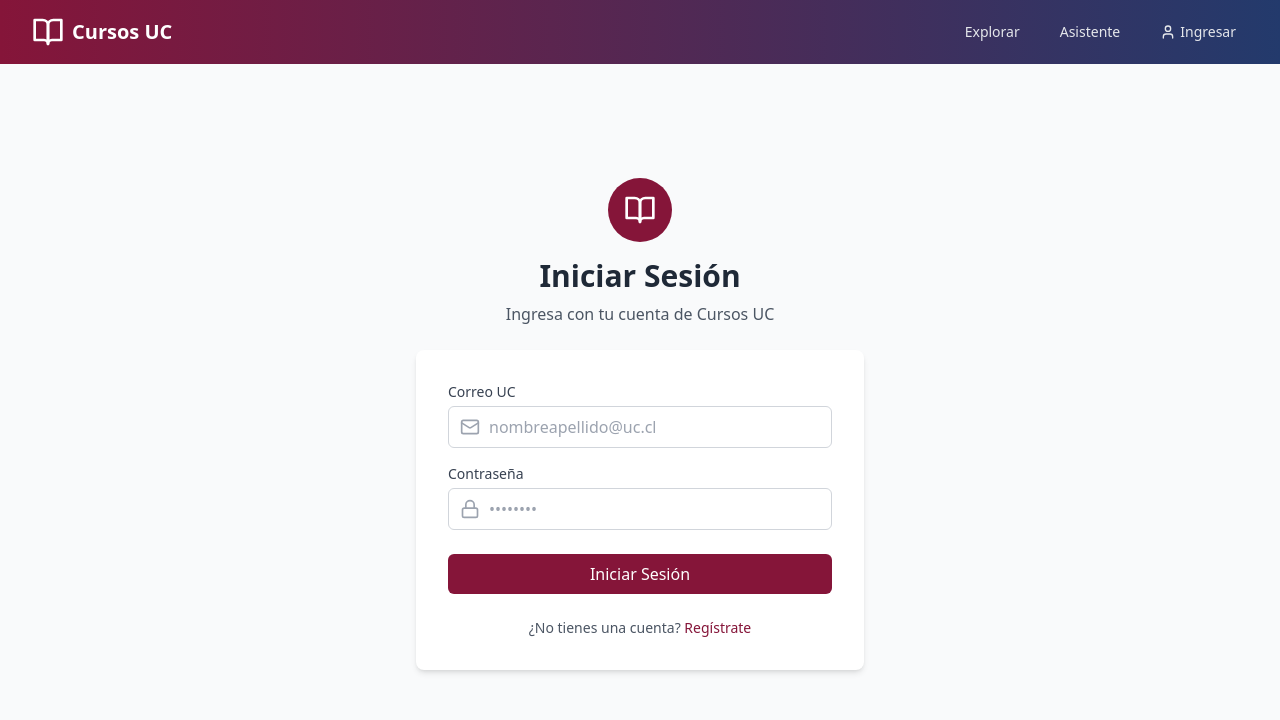
Test: Authentication › should toggle between login and register forms
Expected: the heading "Iniciar Sesión" is shown, [539,255,741,296]
Click register link
Click the button "Regístrate".
click(718, 628)  # box [684,618,751,638]
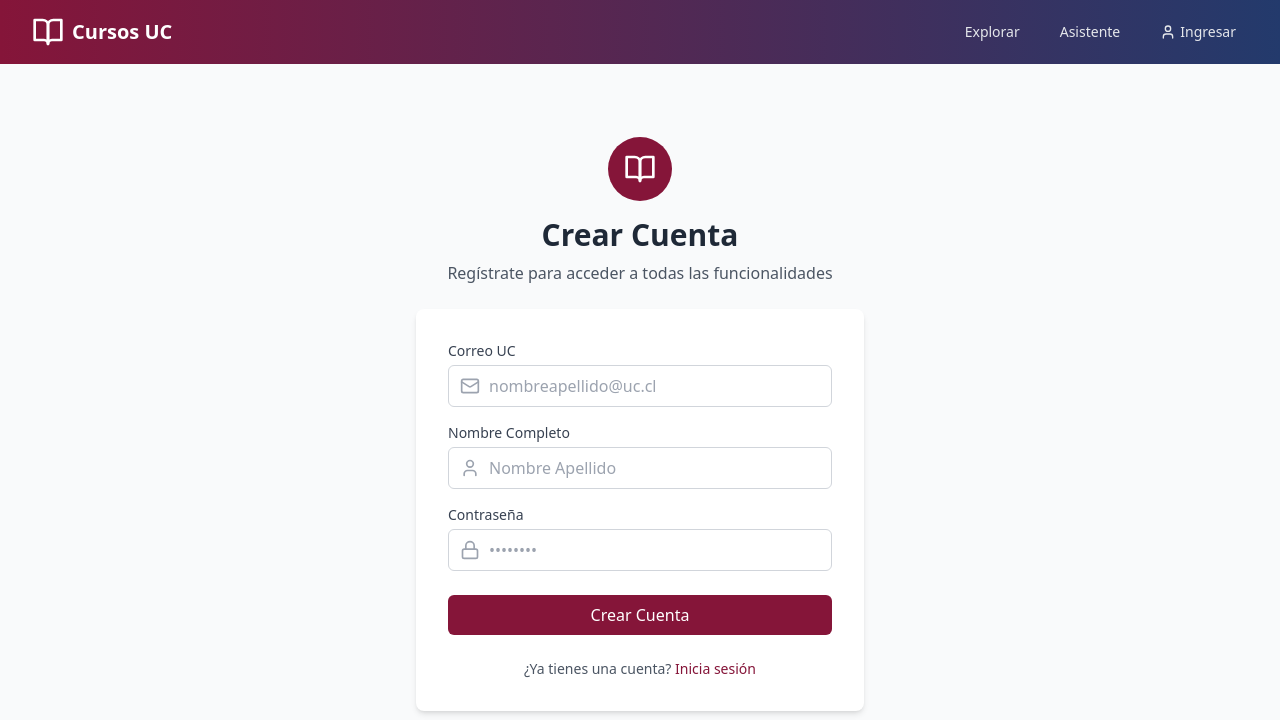
Expected: the heading "Crear Cuenta" is shown, [542,214,738,255]
Expected: the field labelled "Nombre Completo" is shown, [448,447,832,489]
Expected: the submit button reads "Crear Cuenta", [448,595,832,635]
Click login link
Click the button "Inicia sesión".
click(716, 669)  # box [675,659,756,679]
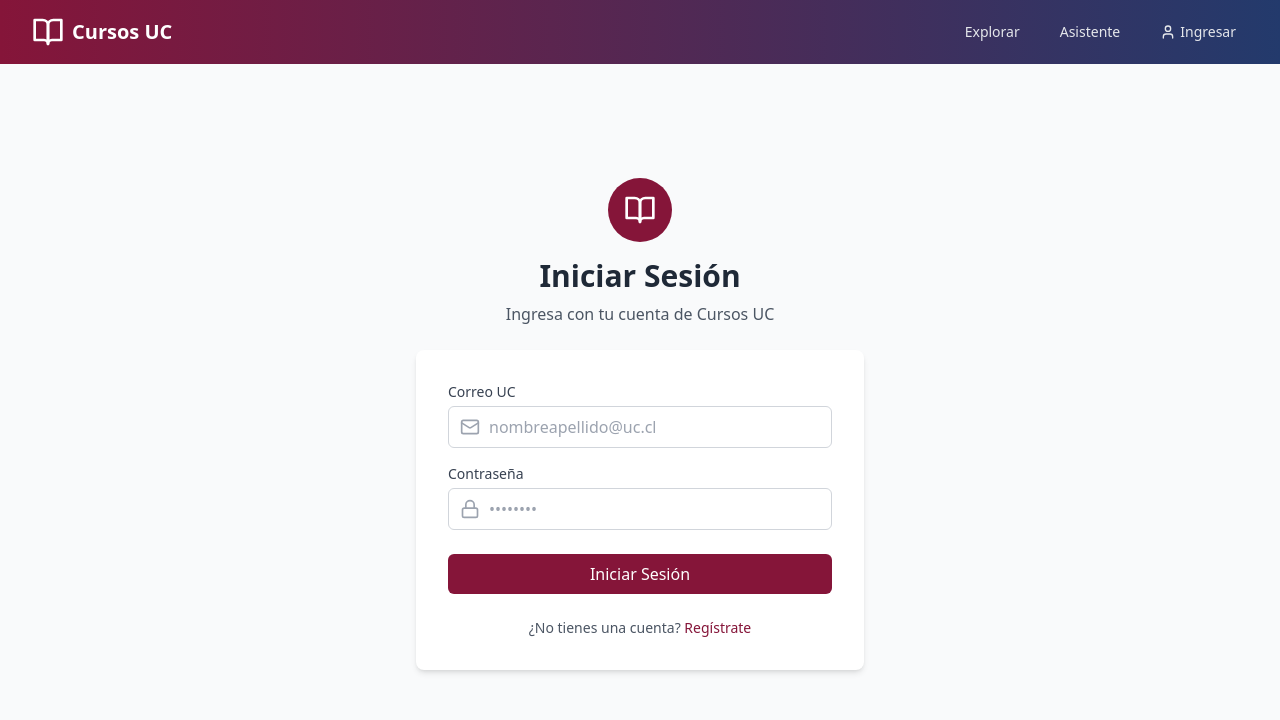
Expected: the heading "Iniciar Sesión" is shown, [539,255,741,296]
